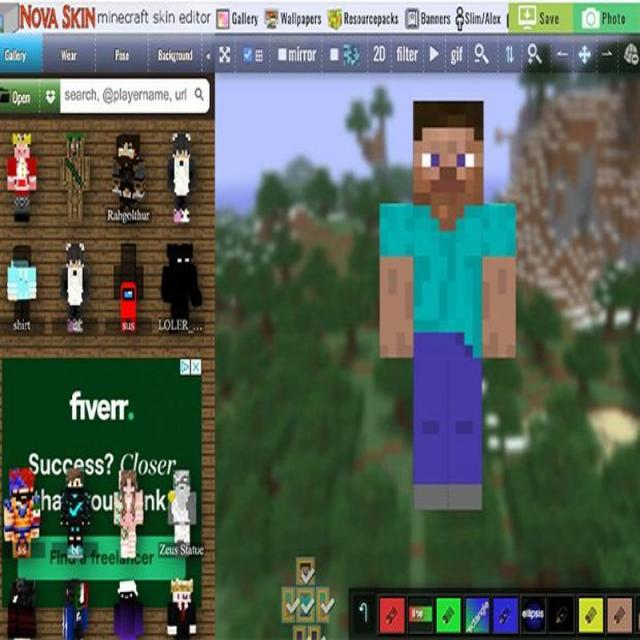Player: (379, 98, 517, 510), (112, 469, 144, 562), (167, 132, 197, 225), (60, 468, 90, 559), (59, 242, 88, 334), (7, 133, 36, 221)
